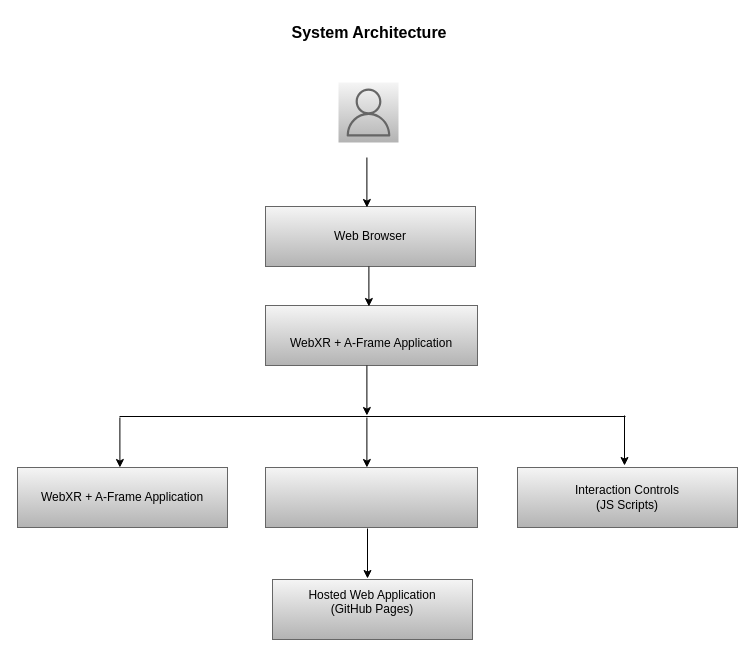
The diagram is 755 pixels wide and 662 high, and some of its shapes have lost their labels. The centre of each missing label's shape, as x and y in pixels:
3D Scene Renderer (Three.js): the point at 371,497
User: the point at 368,112
